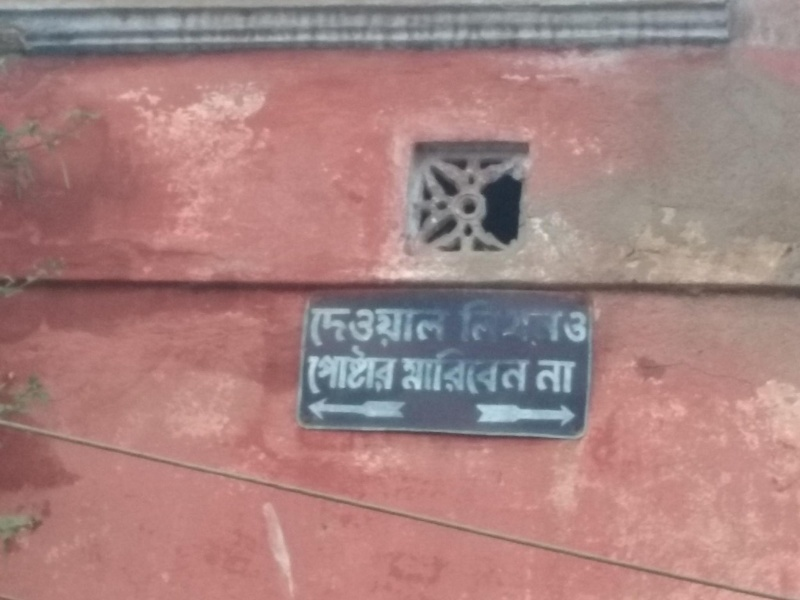text: (465, 296, 480, 347), (481, 296, 496, 347), (497, 296, 512, 347), (513, 296, 528, 347), (529, 296, 544, 347), (545, 296, 560, 347), (321, 346, 336, 395), (337, 346, 352, 395), (353, 346, 368, 395), (369, 346, 384, 395), (401, 347, 416, 394), (417, 347, 432, 394), (433, 347, 448, 394), (449, 347, 464, 394), (465, 347, 480, 394), (481, 347, 496, 394), (497, 347, 512, 394), (513, 347, 528, 394), (307, 346, 320, 395), (321, 308, 336, 348), (337, 308, 352, 348), (353, 308, 368, 348), (369, 308, 384, 348), (385, 308, 400, 348), (401, 308, 416, 348), (417, 308, 432, 348), (433, 308, 448, 348), (385, 346, 397, 395), (545, 358, 560, 396), (561, 358, 576, 396), (453, 296, 464, 347), (577, 306, 590, 346), (534, 358, 544, 396), (568, 306, 576, 346), (314, 308, 320, 348), (529, 347, 534, 394), (561, 296, 563, 347), (449, 308, 451, 348), (577, 358, 579, 396)
